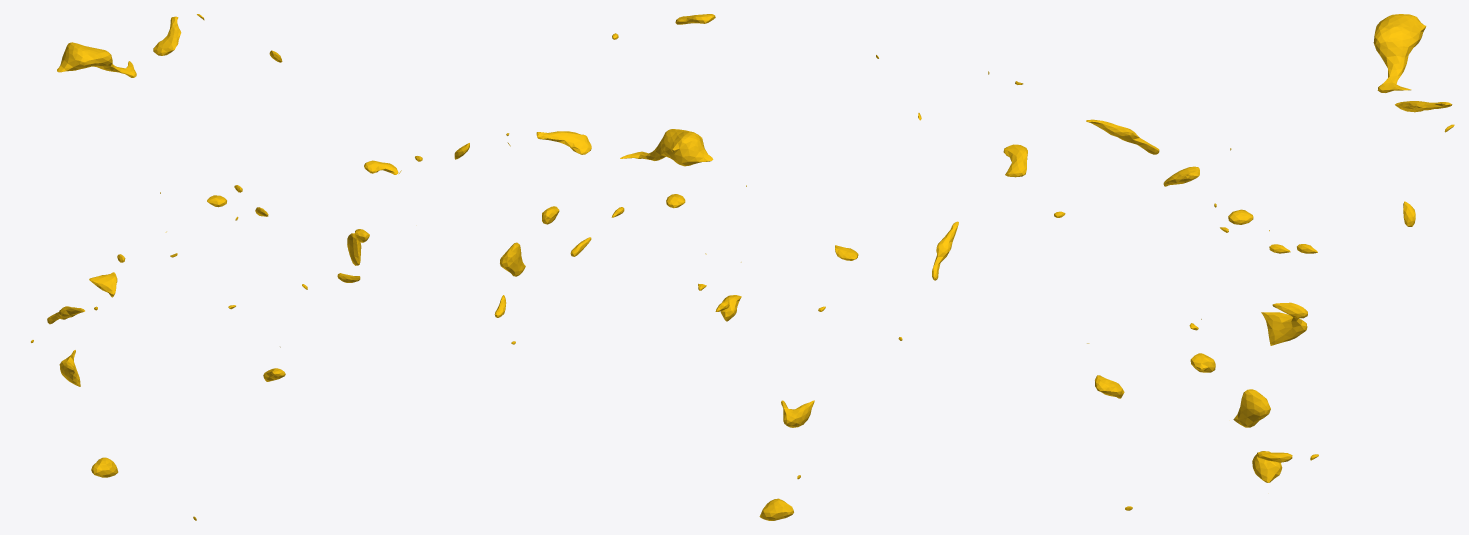
Rendered from case_17_penumbra.gltf.
3 renders of one model, left to right at view 1: azimuth 30°, elevation 25°; view 2: azimuth 150°, elevation 25°; view 3: azimuth 270°, elevation 25°, orthographic. The views are drawn at different scales.
Visible parts, largest first — view 1: penumbra; view 2: penumbra; view 3: penumbra.
Boxes of the visible parts, box(x1,y1,x2,y2) form: penumbra: box(31, 14, 422, 520); penumbra: box(454, 14, 958, 520); penumbra: box(988, 14, 1454, 510).
Bounding box in the file's own units: 1.7 × 1.63 × 1.4.
